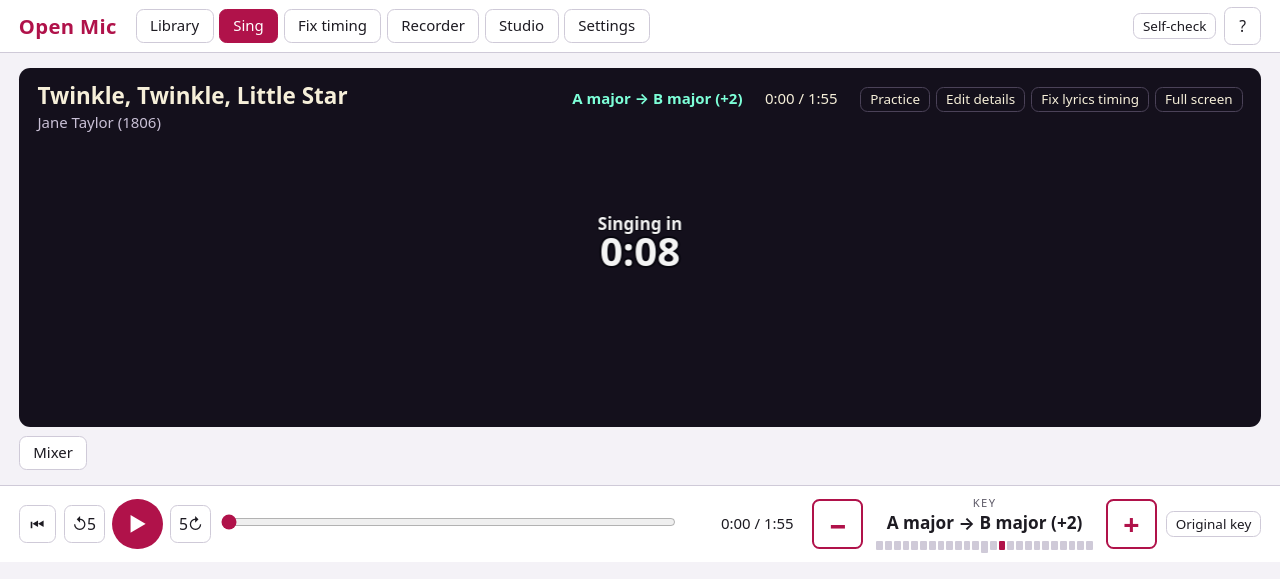
Test case: functional UI on the mock › changes the key with the buttons, [ ] + - keys and the wheel, clamped to ±12, and saves it
Later steps or results of the test are not shown.
Click the button "+": (1131, 524) top-left (1106, 499), bottom-right (1157, 550)
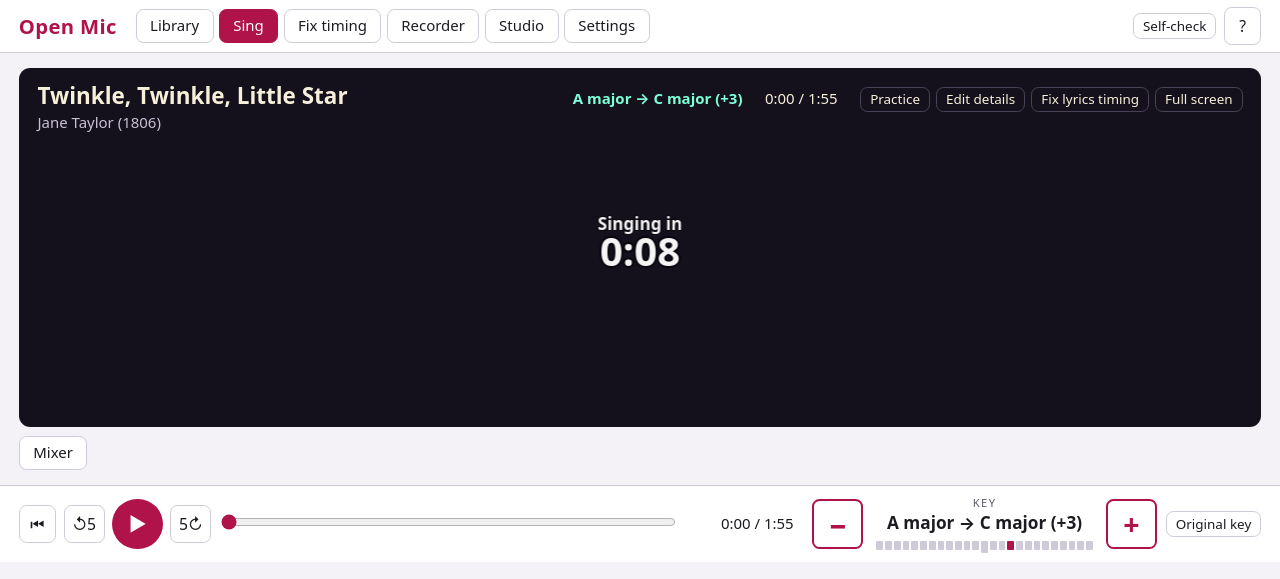
Expected: the text with class "key-control__label" reads "A major → C major (+3)", top-left (887, 511), bottom-right (1082, 534)
